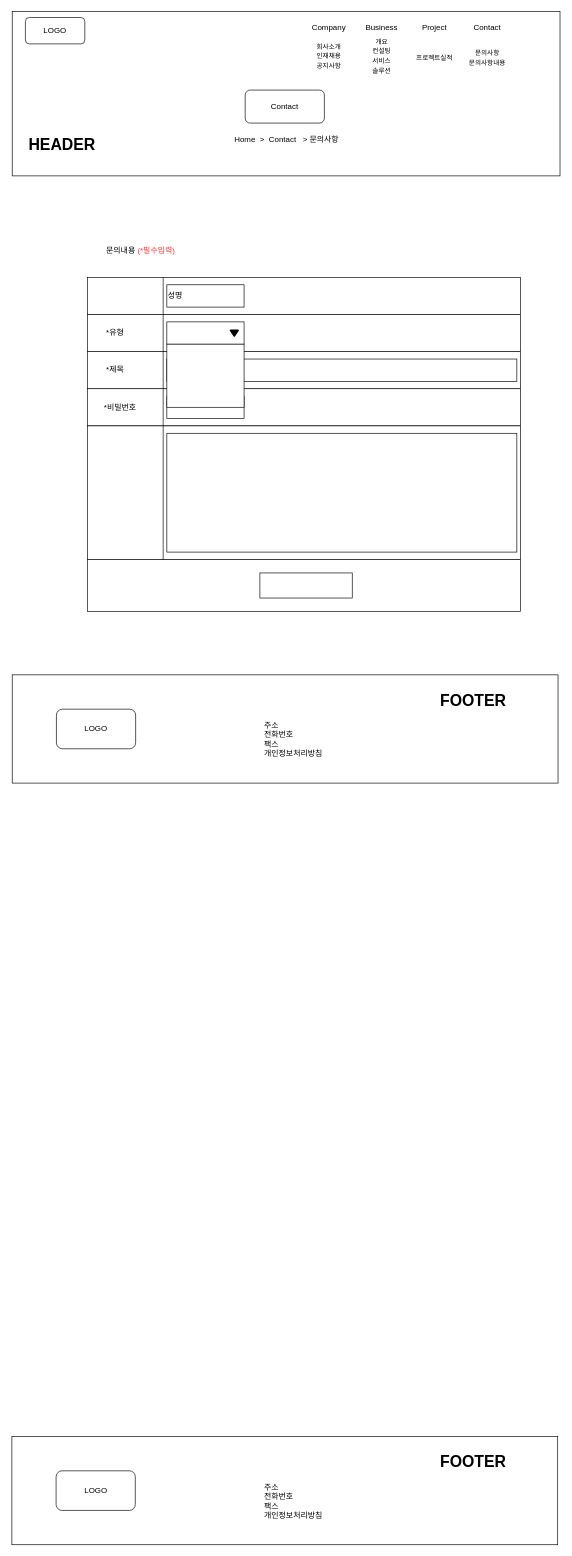
The diagram is 572 pixels wide and 1556 high, and some of its shapes have lost their labels. The shapes that lost their labels are listed below. From the top down, each one's box as (x1, y1, x2, y2) in pixels, then its label:
(87, 277, 520, 314): *성명
(166, 321, 244, 344): 유형선택
(166, 344, 244, 407): 컨설팅 서비스 솔루션 인재채용 기타
(87, 425, 520, 560): *문의내용
(259, 572, 352, 598): 문의하기
